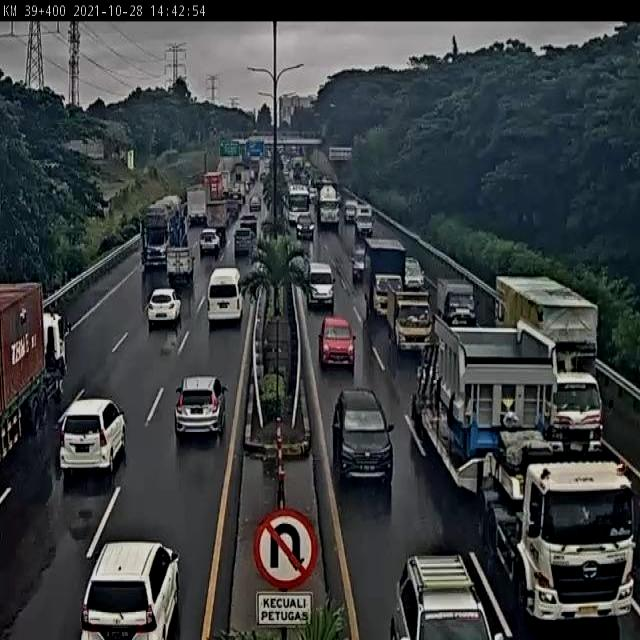Bus: (287, 184, 312, 224)
Car: (388, 555, 503, 640), (80, 541, 175, 637), (330, 386, 396, 488), (58, 399, 128, 477), (174, 377, 225, 435), (318, 315, 358, 374), (146, 288, 182, 330), (403, 258, 425, 290), (234, 228, 254, 256), (199, 230, 220, 254), (296, 213, 316, 238), (352, 248, 367, 281), (239, 213, 258, 231), (249, 194, 262, 212)
Truck: (412, 314, 640, 624), (492, 270, 616, 450), (0, 279, 74, 462), (386, 277, 437, 356), (138, 194, 188, 272), (364, 236, 406, 320), (436, 278, 480, 326), (166, 247, 196, 284), (317, 182, 340, 226), (185, 187, 209, 226), (205, 199, 230, 229), (354, 203, 375, 238), (202, 171, 226, 201), (342, 199, 358, 222), (220, 169, 230, 197)
Van: (206, 266, 245, 328), (306, 260, 336, 313)
